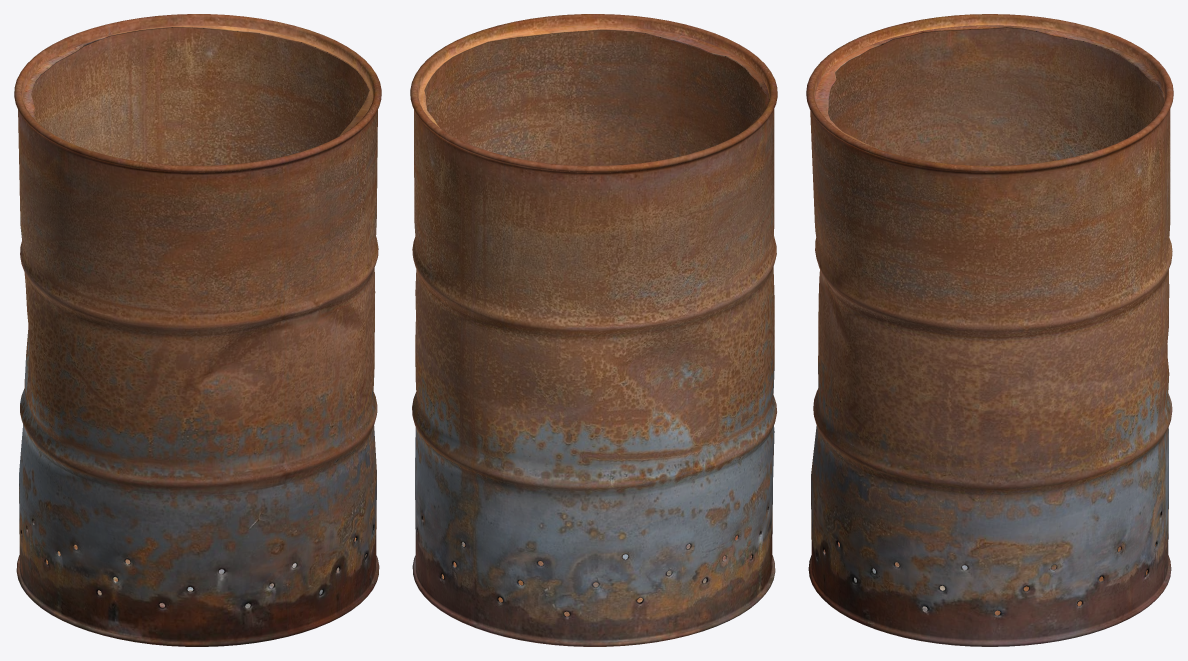
File: burn_barrel.glb
3 renders of one model, left to right at view 1: azimuth 30°, elevation 25°; view 2: azimuth 150°, elevation 25°; view 3: azimuth 270°, elevation 25°, orthographic.
Visible parts, largest first — view 1: barrel_stove; view 2: barrel_stove; view 3: barrel_stove.
Part boxes in pixels (box(x1,y1,x2,y2)): barrel_stove: box(14, 14, 381, 646); barrel_stove: box(410, 14, 777, 646); barrel_stove: box(806, 14, 1173, 646).
Size of the model in its own units: 0.5926 by 0.8556 by 0.5926.
Materials: 1 (1 with a texture image).
